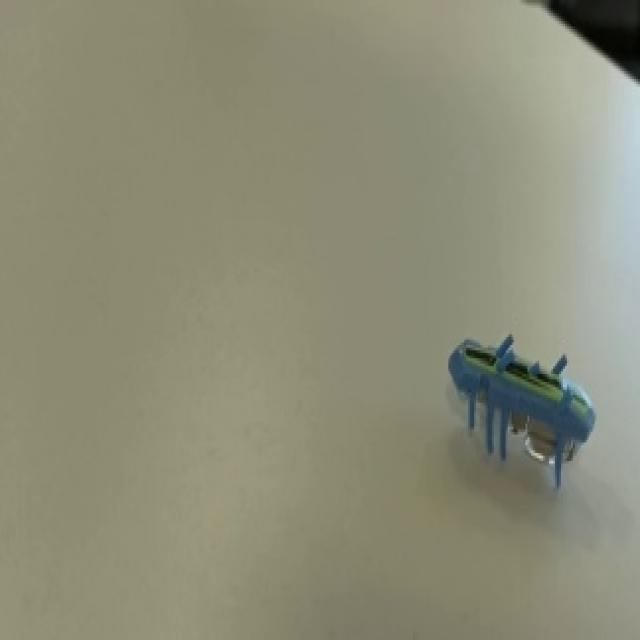3_NanoBug_Celeste: (433, 324, 640, 542)
